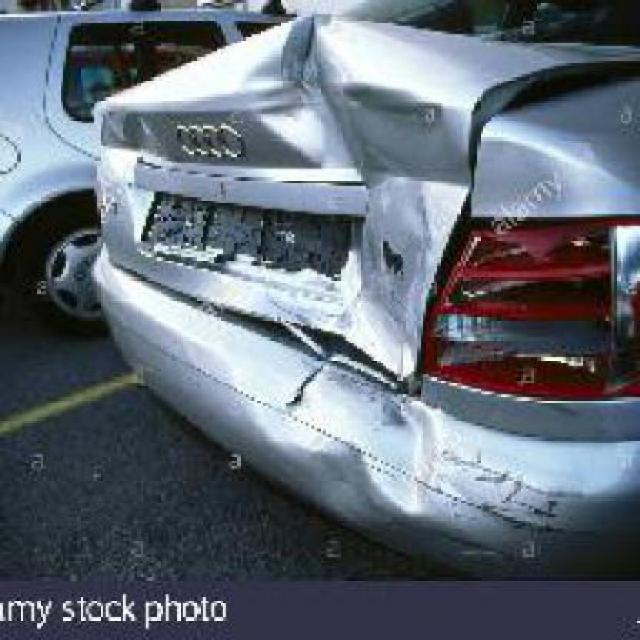damaged-trunk: (104, 9, 638, 378)
dent-or-scratch: (274, 374, 560, 538)
